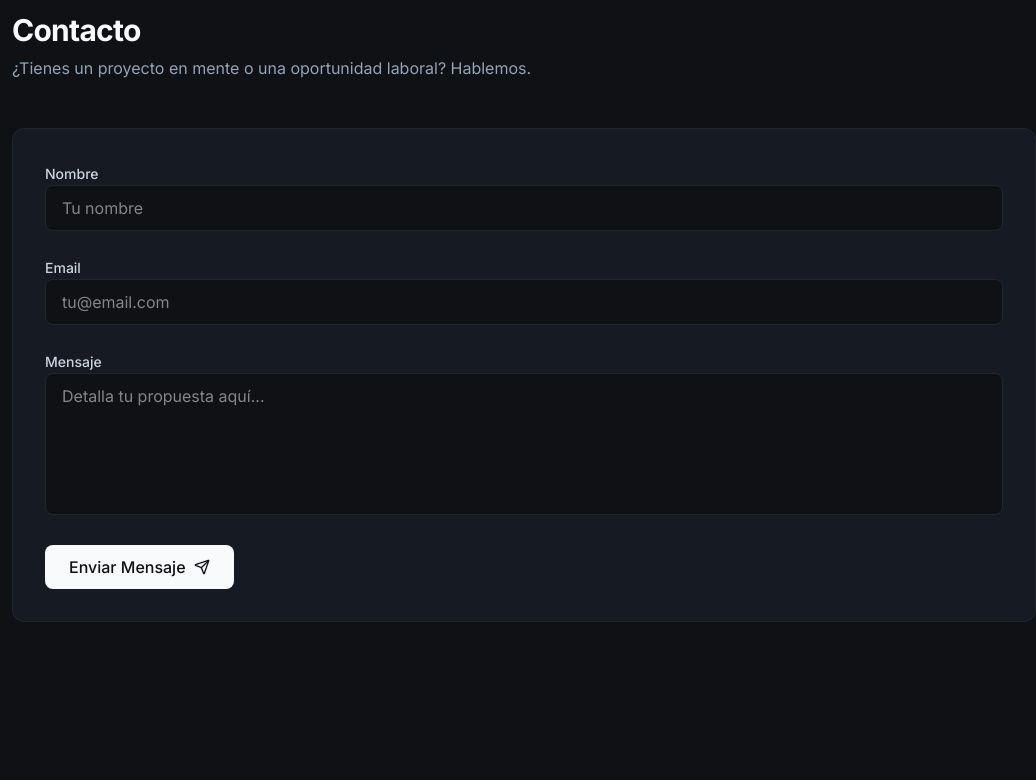
it: Contact Page › shows validation error when name is too short
Type "A" into the field labelled "Nombre" at (524, 208), box [45,185,1003,231]
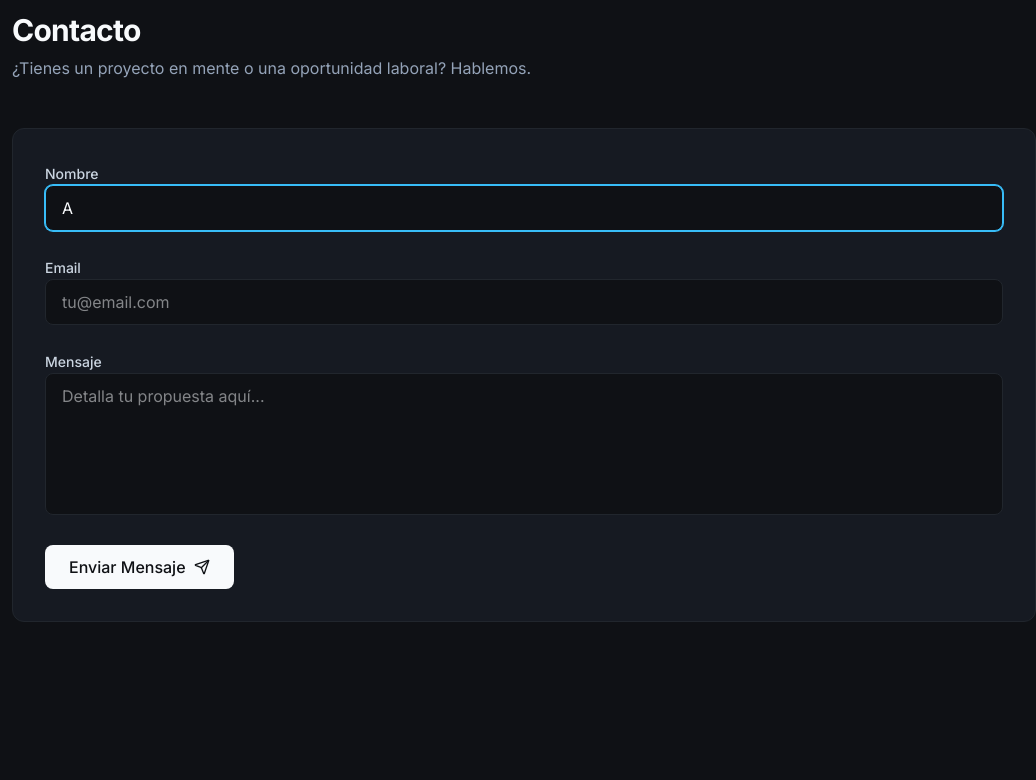
Click the button "Enviar Mensaje" at (139, 567), box [45,545,234,589]
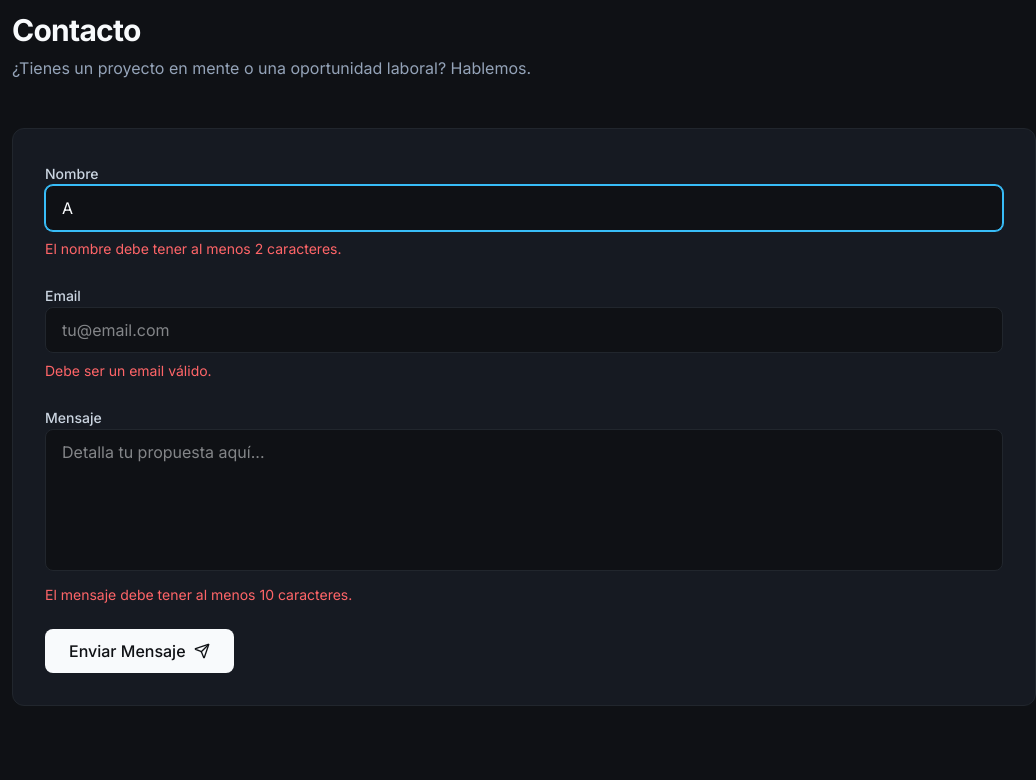
Now the text "El nombre debe tener al menos 2 caracteres." is shown, box [45,240,342,257]
